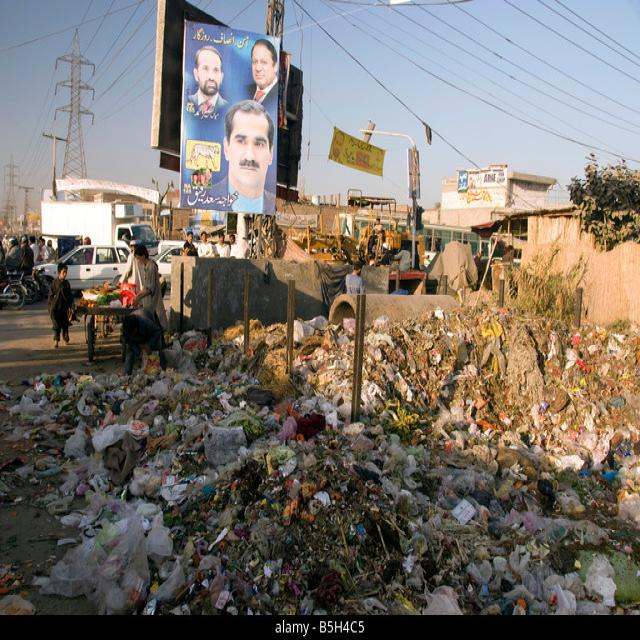trash: (113, 372, 609, 592), (330, 244, 610, 378)
